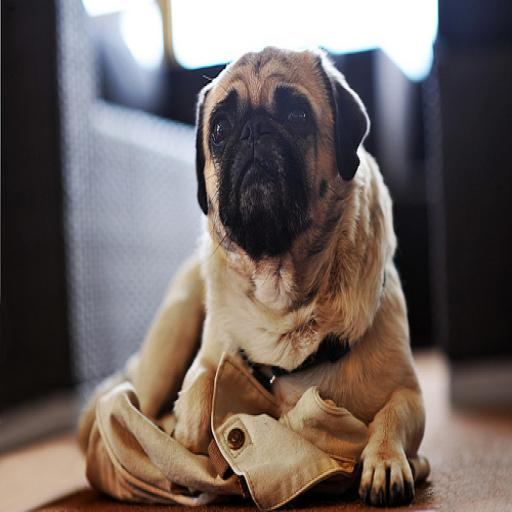dog_face: (192, 41, 369, 262)
